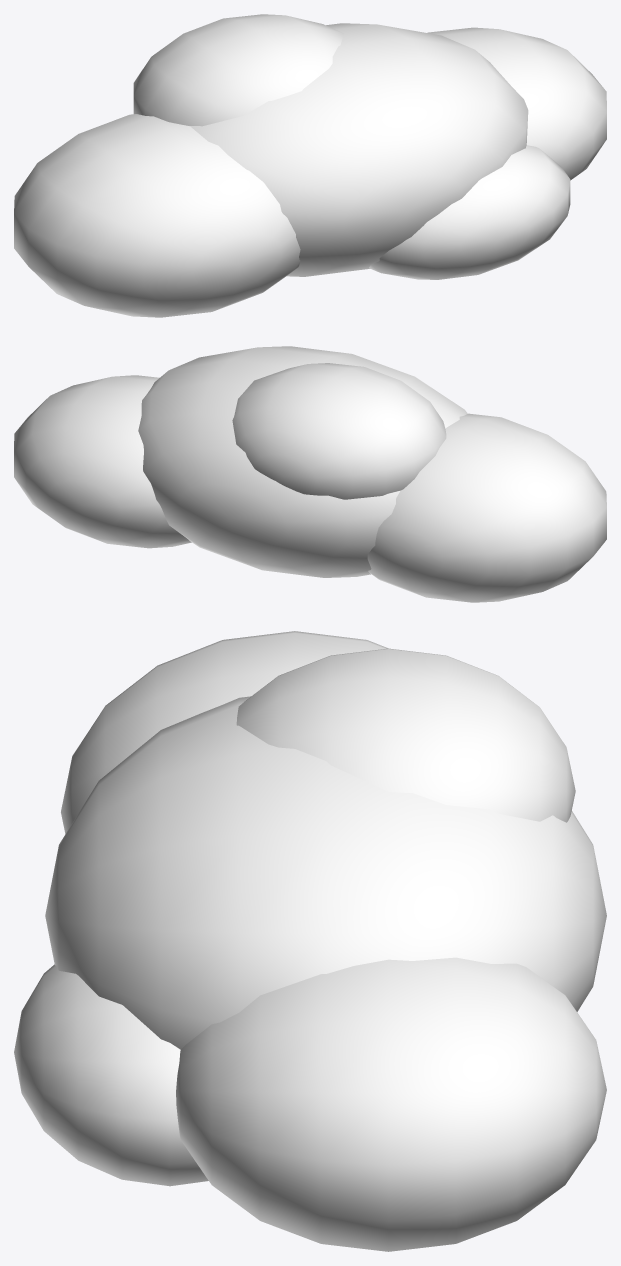
Rendered from Cloud.fbx.
The picture shows the model from 3 angles, top to bottom: view 1: azimuth 30°, elevation 25°; view 2: azimuth 150°, elevation 25°; view 3: azimuth 270°, elevation 25°; orthographic projection. The views are drawn at different scales.
Visible parts, largest first — view 1: Cloud; view 2: Cloud; view 3: Cloud.
Part boxes in pixels (x1,y1,x2,y2): Cloud: [14, 14, 606, 317]; Cloud: [14, 346, 606, 602]; Cloud: [14, 631, 606, 1251].
Bounding box in the file's own units: 36.57 × 13 × 19.
Materials: 1 (1 with a texture image).
